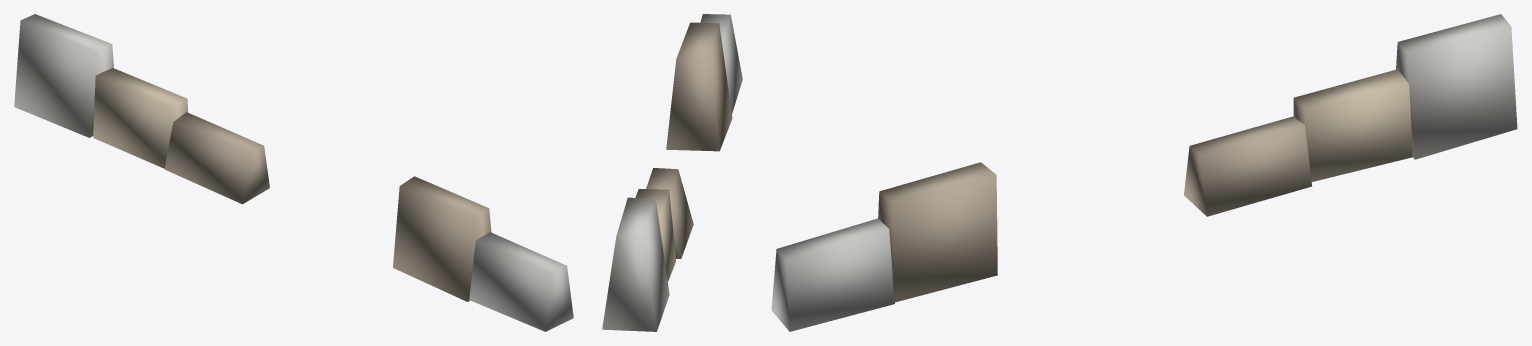
File: farm_-5_6_far.glb
The picture shows the model from 3 angles, left to right: view 1: azimuth 30°, elevation 25°; view 2: azimuth 150°, elevation 25°; view 3: azimuth 270°, elevation 25°; orthographic projection. The views are drawn at different scales.
Visible parts, largest first — view 1: geometry_0; view 2: geometry_0; view 3: geometry_0.
Part boxes in pixels (<box>): geometry_0: <box>14,14,573,331</box>; geometry_0: <box>602,14,742,331</box>; geometry_0: <box>771,14,1517,331</box>.
Size of the model in its own units: 4.63 by 2.37 by 9.48.
